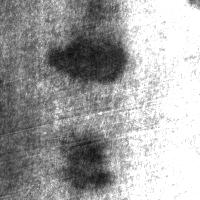patches: (118, 6, 190, 78), (45, 27, 129, 86), (0, 103, 52, 187), (60, 128, 109, 191)
